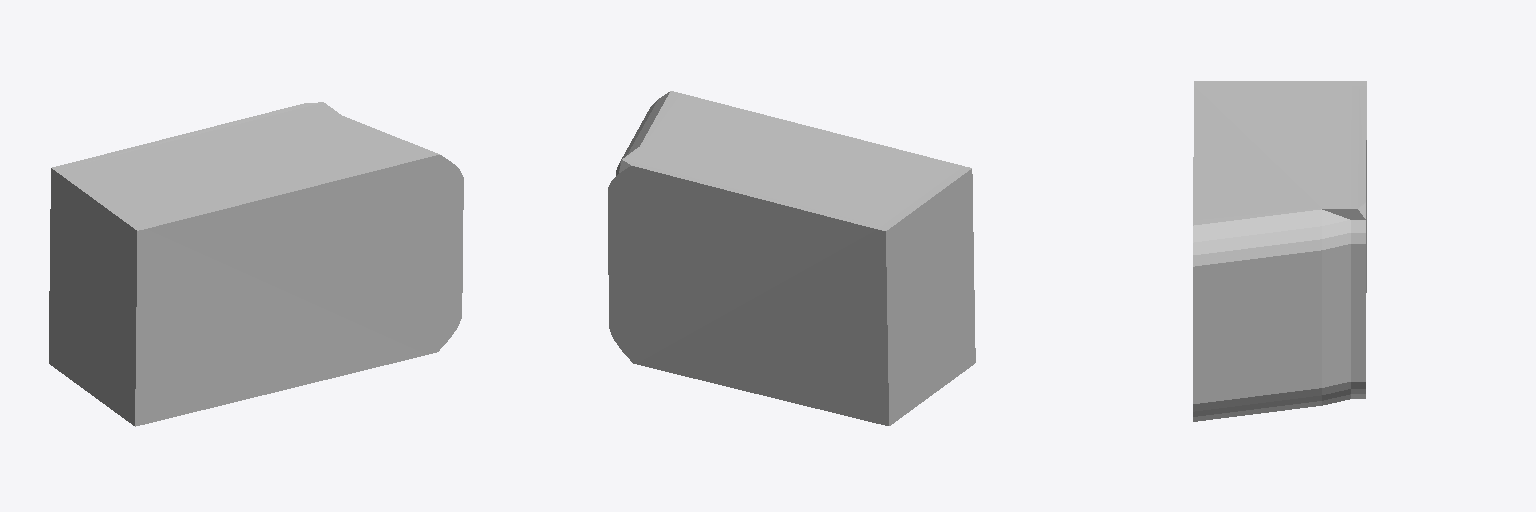
The model's file is hull_r3_phy.obj.
The picture shows the model from 3 angles: view 1: azimuth 30°, elevation 25°; view 2: azimuth 150°, elevation 25°; view 3: azimuth 270°, elevation 25°; orthographic projection.
Visible parts, largest first — view 1: Hull_R3_phy; view 2: Hull_R3_phy; view 3: Hull_R3_phy.
Boxes of the visible parts, x1,y1,x2,y2 form: Hull_R3_phy: [49, 102, 463, 426]; Hull_R3_phy: [608, 91, 975, 425]; Hull_R3_phy: [1193, 81, 1366, 421].
Size of the model in its own units: 0.1653 by 0.0951 by 0.0758.